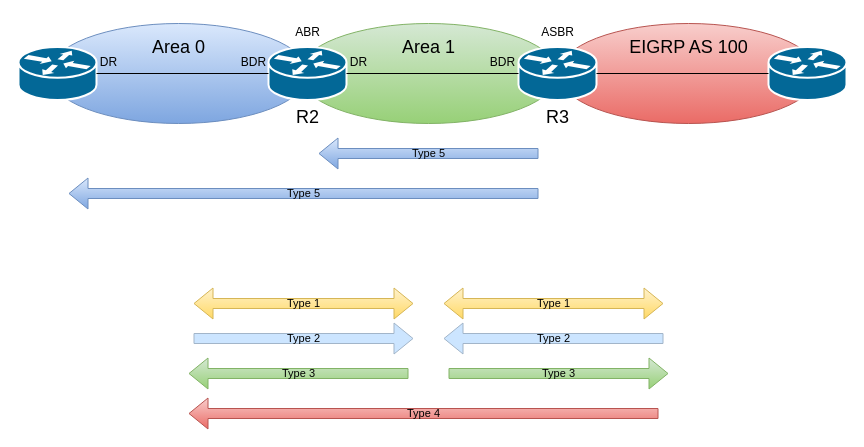
This 864x447 diagram has some shape labels left out. Here are the shapes that lost their labels. From the top down, the box of each, then its label:
(17, 46, 97, 100): R1
(767, 46, 847, 100): R4
